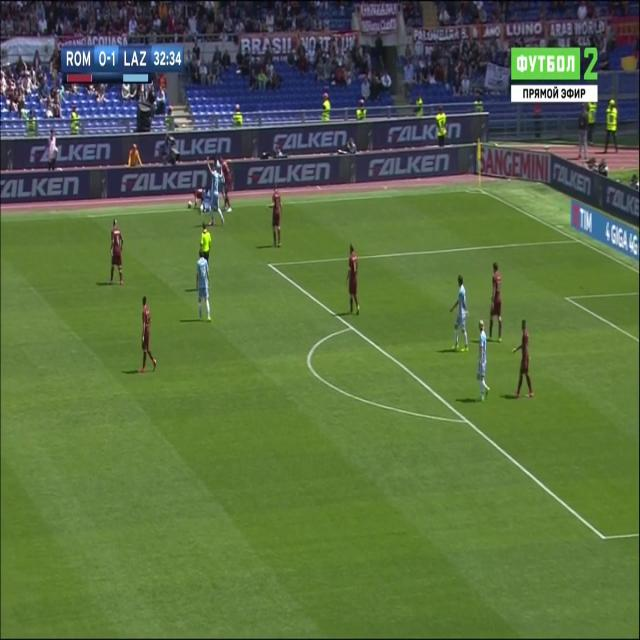Ball: (187, 199, 193, 211)
Player: (511, 316, 536, 402), (448, 270, 471, 355), (137, 294, 160, 378), (486, 261, 506, 346), (105, 215, 127, 292), (474, 316, 492, 405), (205, 152, 225, 228), (345, 242, 364, 318), (195, 250, 212, 327), (267, 186, 285, 249), (219, 152, 236, 217), (193, 185, 206, 208)
Referee: (198, 219, 212, 256)
